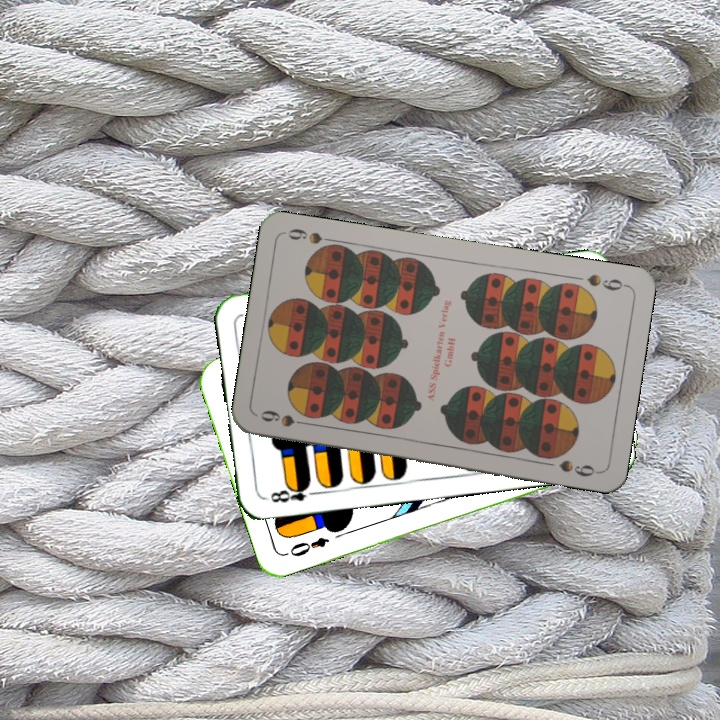E8: (262, 479, 321, 506)
EO: (281, 533, 332, 559)
S9: (256, 406, 315, 430), (583, 270, 629, 293)
